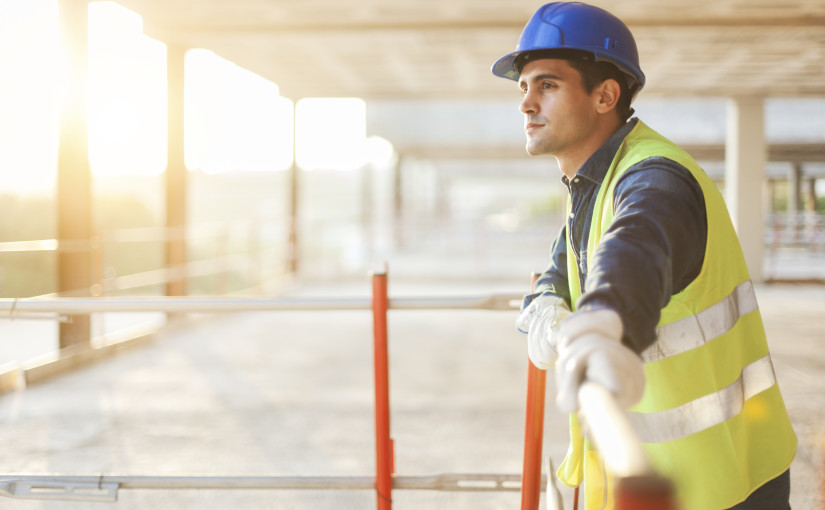Hard Hat: (492, 5, 654, 75)
High Viz: (575, 130, 780, 493)
